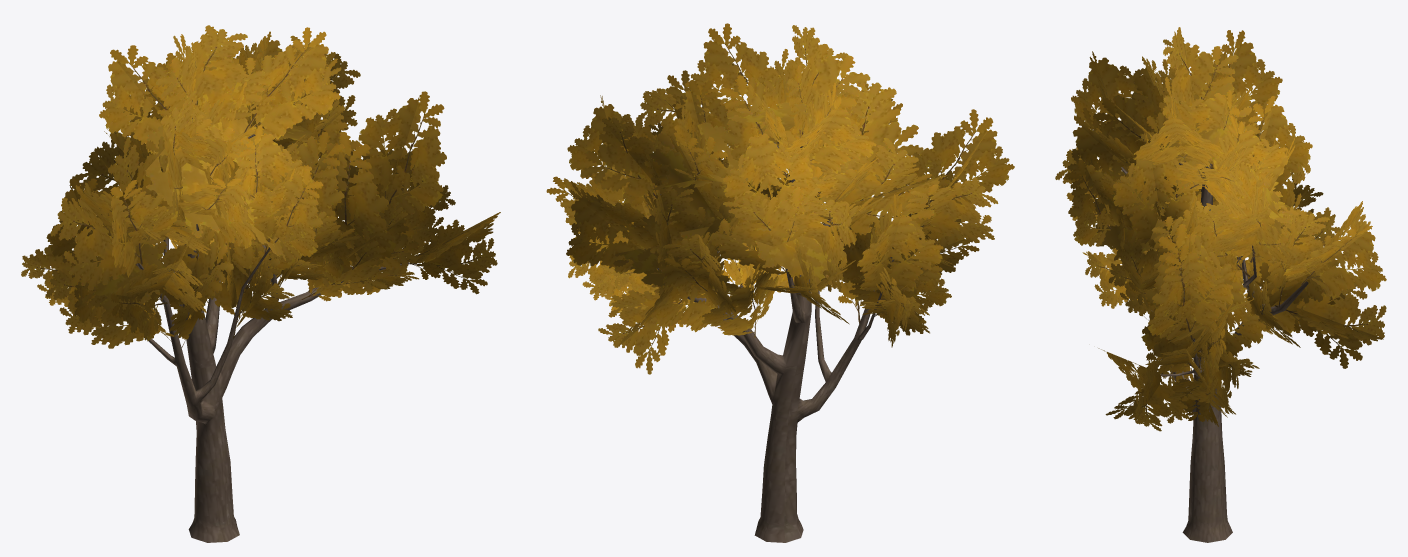
3 renders of one model, left to right at view 1: azimuth 30°, elevation 25°; view 2: azimuth 150°, elevation 25°; view 3: azimuth 270°, elevation 25°, orthographic. The views are drawn at different scales.
Visible parts, largest first — view 1: body0_model0_lod0_mesh0; view 2: body0_model0_lod0_mesh0; view 3: body0_model0_lod0_mesh0.
Part boxes in pixels (box(x1,y1,x2,y2)): body0_model0_lod0_mesh0: box(21, 25, 500, 542); body0_model0_lod0_mesh0: box(546, 23, 1014, 542); body0_model0_lod0_mesh0: box(1055, 27, 1386, 542).
Size of the model in its own units: 473 by 532 by 328.
Materials: 1 (1 with a texture image).
